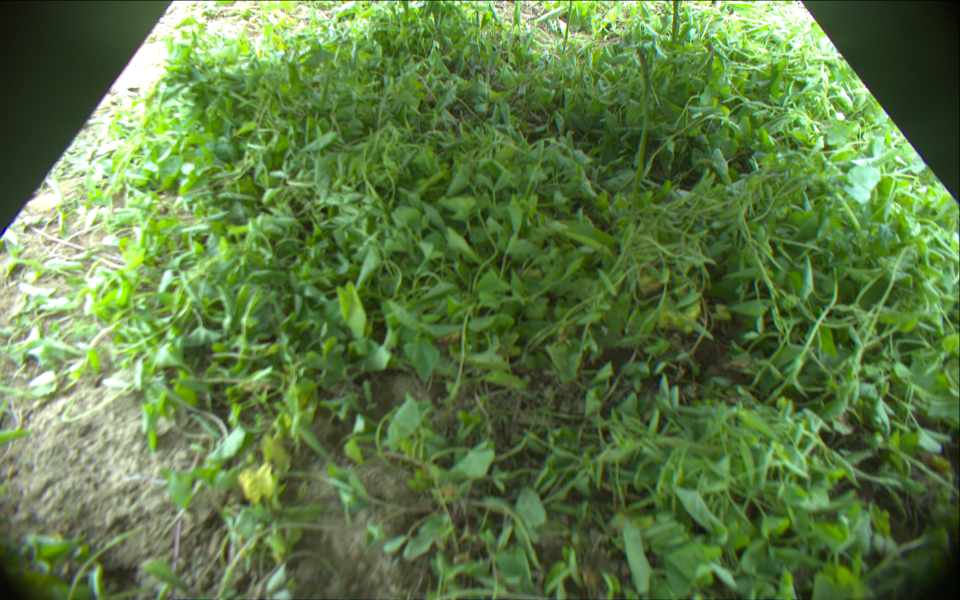aspa: (633, 47, 649, 222), (562, 1, 573, 55), (670, 1, 679, 56)
